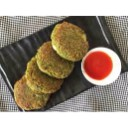cutlet: (51, 20, 87, 61), (34, 43, 77, 77), (27, 60, 66, 93), (14, 79, 48, 110)
